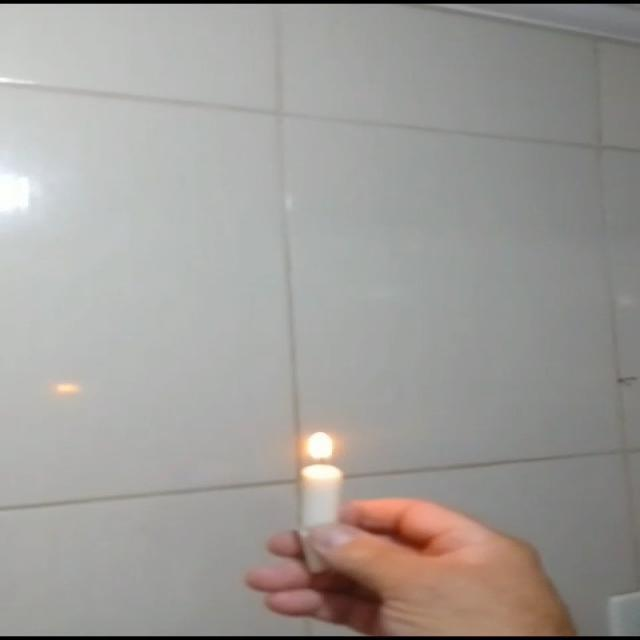fire: (301, 427, 341, 464)
